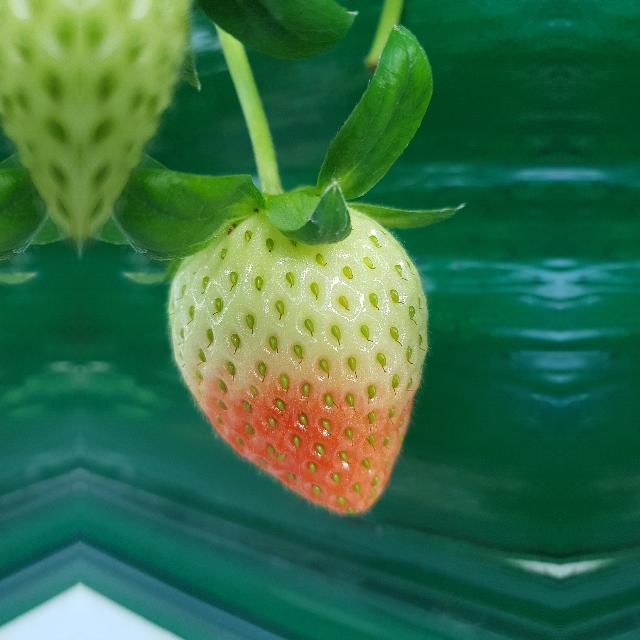Health_50: (166, 204, 430, 516)
